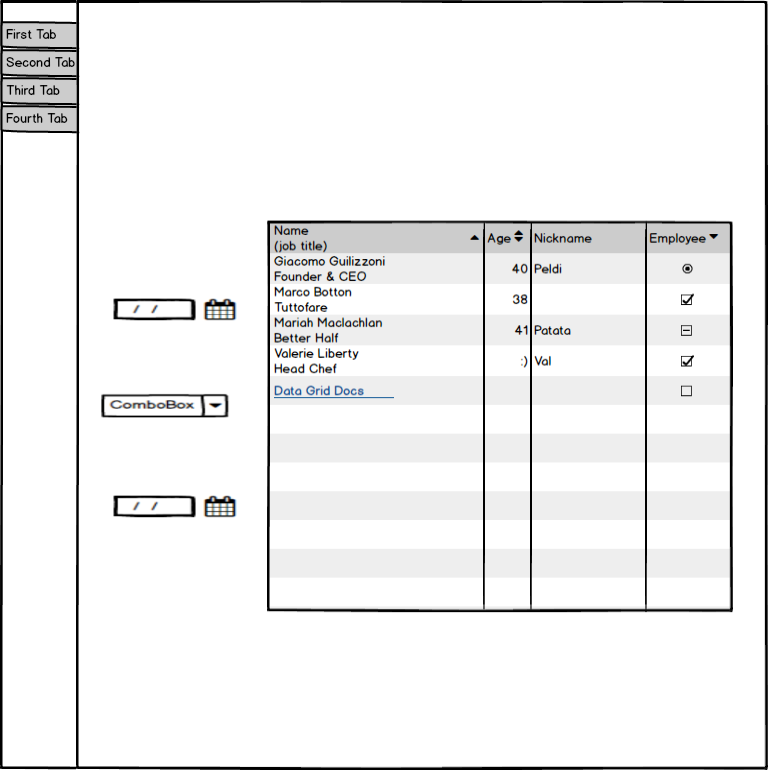date_picker: (102, 488, 247, 526), (105, 294, 245, 328)
select_box: (99, 387, 232, 423)
sidebar: (2, 15, 82, 139)
table: (263, 213, 738, 619)
